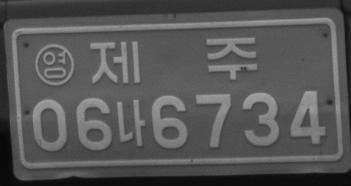0: (31, 97, 68, 152)
3: (241, 91, 280, 147)
4: (289, 89, 327, 144)
6: (150, 94, 188, 151), (74, 96, 113, 151)
7: (194, 92, 232, 147)
나: (114, 98, 146, 147)
영: (34, 42, 75, 87)
제주_D: (90, 36, 258, 84)
